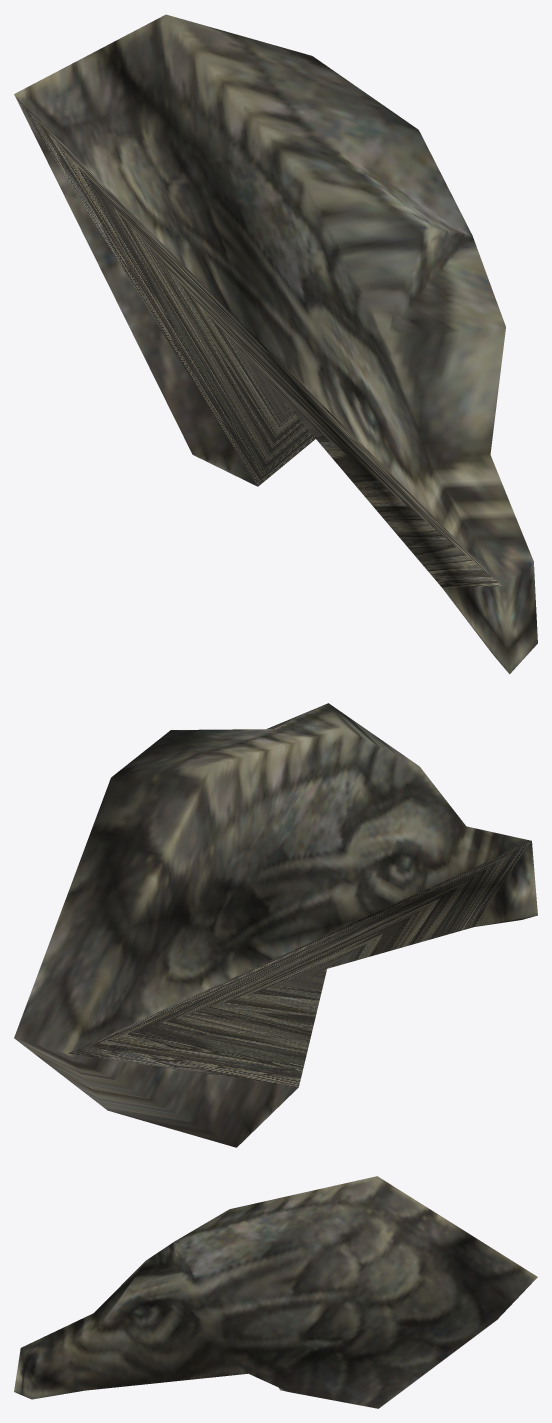
Rendered from LeftHead.fbx.
3 views of the same model, one above another, from view 1: azimuth 30°, elevation 25°; view 2: azimuth 150°, elevation 25°; view 3: azimuth 270°, elevation 25° (orthographic). The views are drawn at different scales.
Parts seen in each view (by area): view 1: Statue07_c; view 2: Statue07_c; view 3: Statue07_c.
Part boxes in pixels (<box>): Statue07_c: <box>14,14,537,674</box>; Statue07_c: <box>14,703,537,1147</box>; Statue07_c: <box>14,1176,537,1408</box>.
Size of the model in its own units: 15.07 by 37.96 by 81.05.
